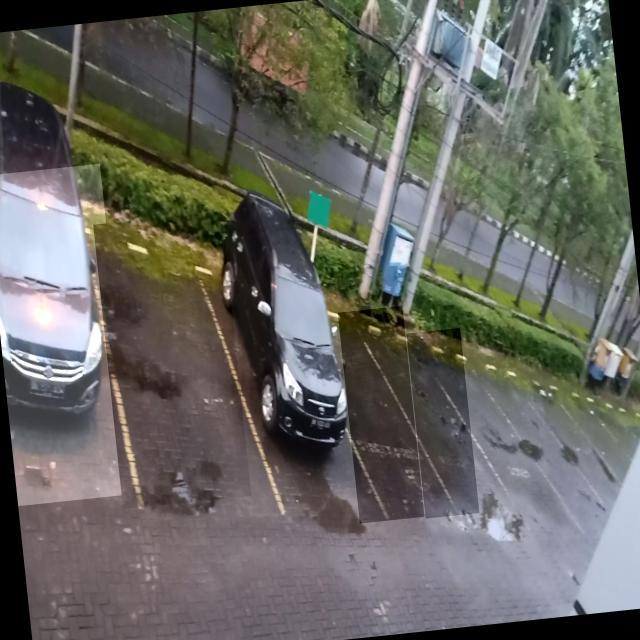empty: (93, 211, 251, 508), (337, 305, 424, 523), (406, 328, 479, 518)
occupied: (0, 163, 134, 506), (219, 226, 362, 516)
